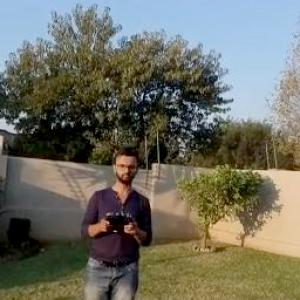follow: (76, 135, 158, 299)
